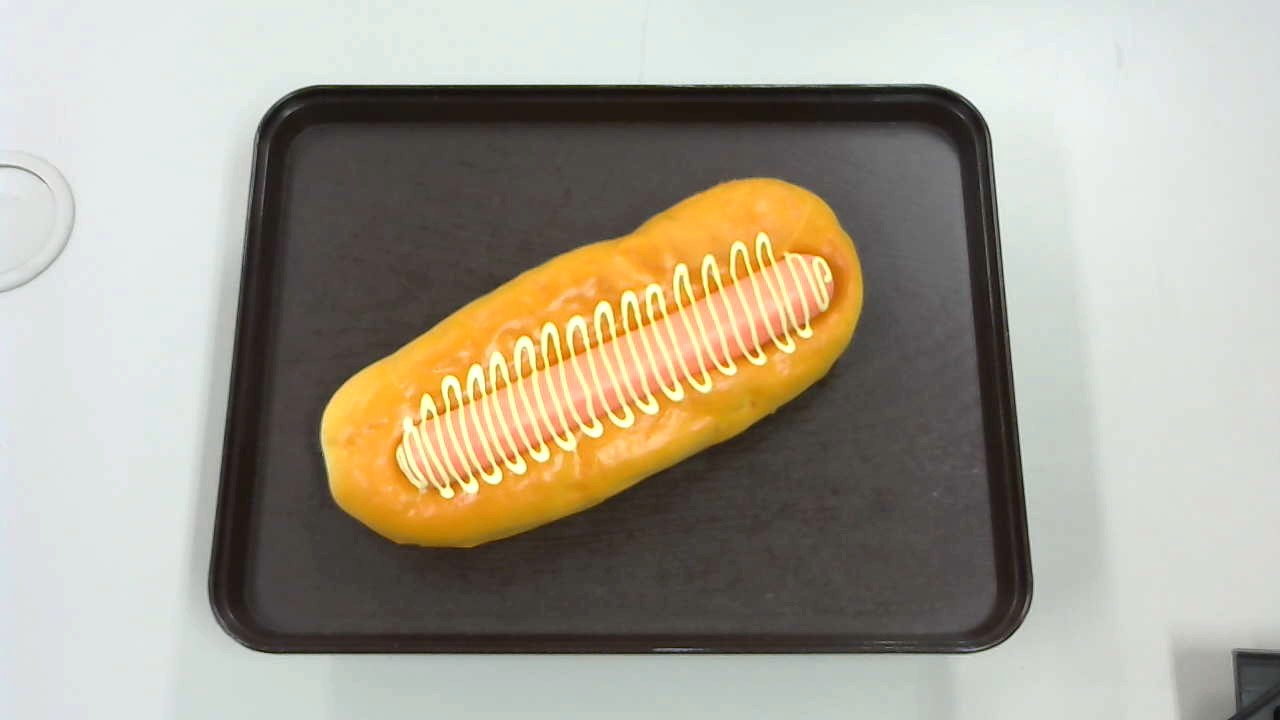hot dog: (320, 176, 864, 551)
